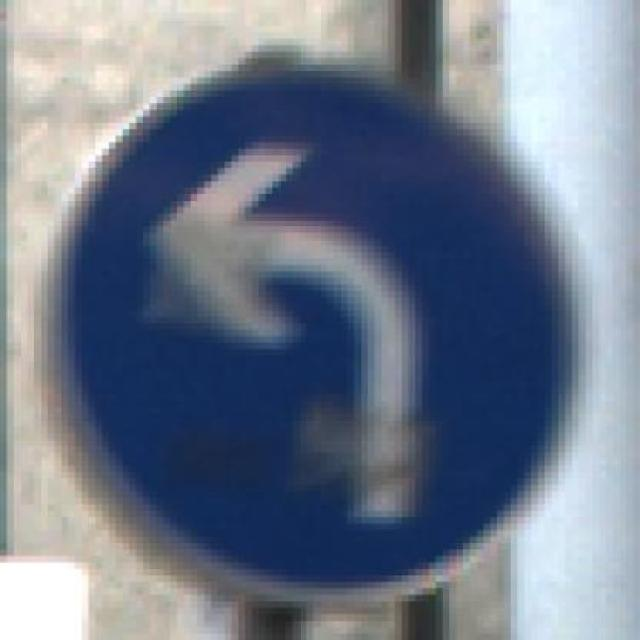Turn left ahead: (31, 54, 617, 597)
